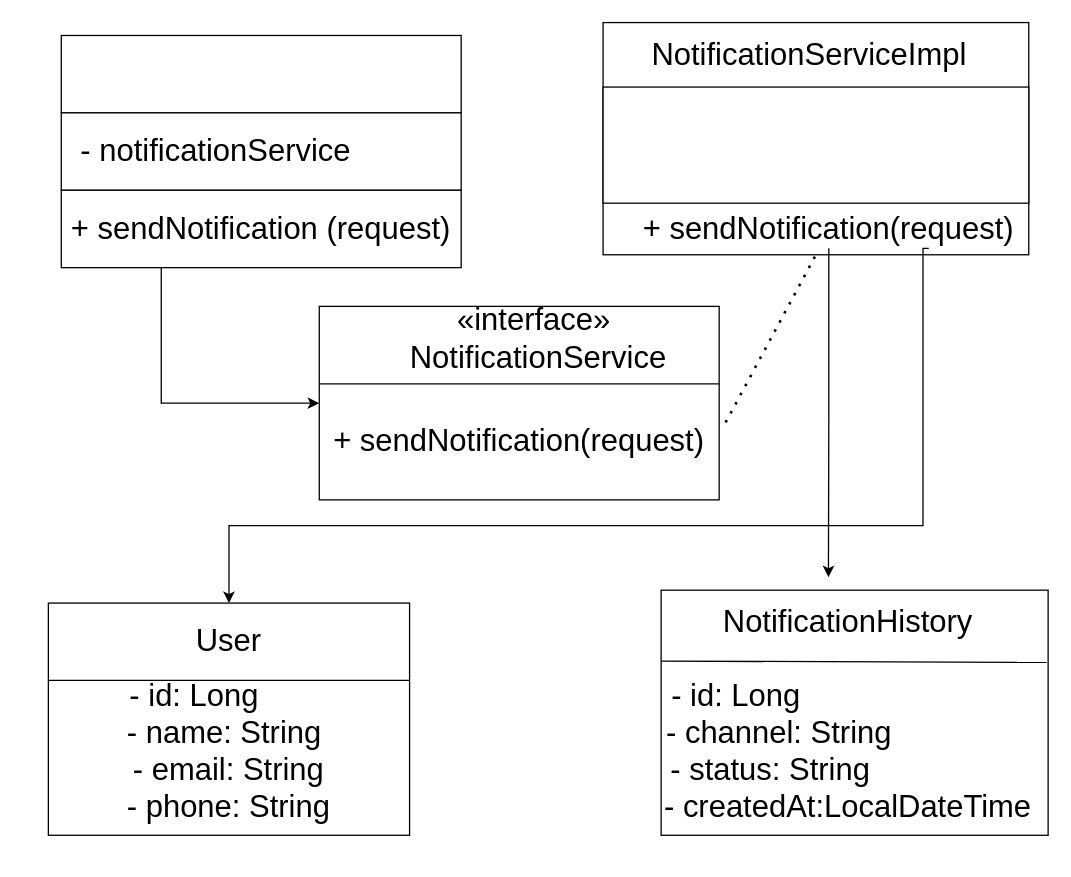
The diagram is 1071 pixels wide and 877 high, and some of its shapes have lost their labels. Each missing label, with the centre of its shape:
"- userRepository - userPreferenceRepository - notificationHistoryRepository" belongs at [815,144].
"Notification Controller" belongs at [260,73].
